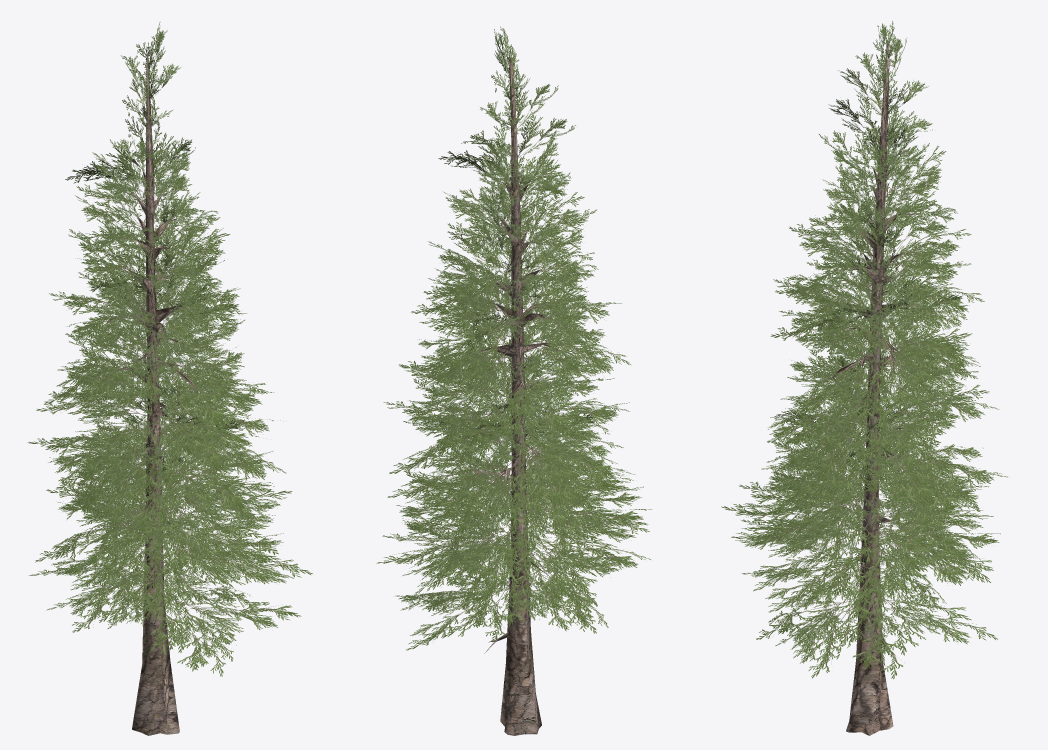
Rendered from tree_spruce_hi.glb.
3 renders of one model, left to right at view 1: azimuth 30°, elevation 25°; view 2: azimuth 150°, elevation 25°; view 3: azimuth 270°, elevation 25°, orthographic. The views are drawn at different scales.
Visible parts, largest first — view 1: leaf, trunk; view 2: leaf, trunk; view 3: leaf, trunk.
Part boxes in pixels (<box>): leaf: <box>27,22,312,676</box>; trunk: <box>106,53,195,735</box>; leaf: <box>376,26,651,650</box>; trunk: <box>471,58,558,735</box>; leaf: <box>721,21,1007,679</box>; trunk: <box>828,41,917,735</box>.
Size of the model in its own units: 4.92 by 12.1 by 4.96.
2 materials, 2 textured.
